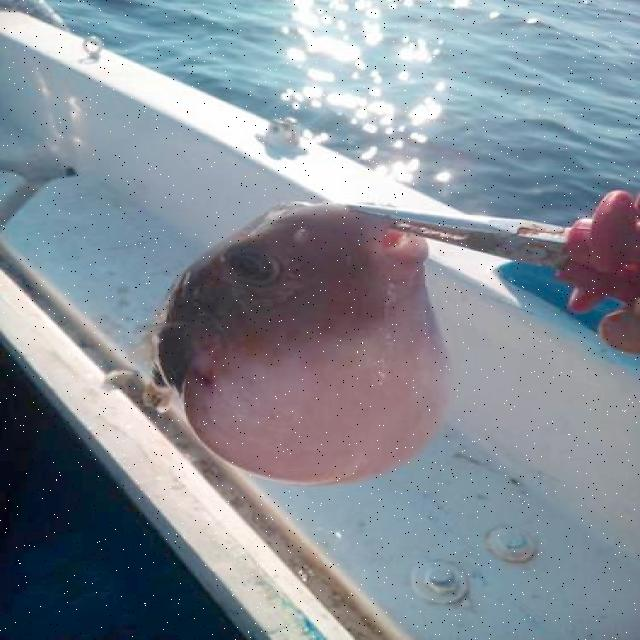Balik: (156, 204, 447, 483)
